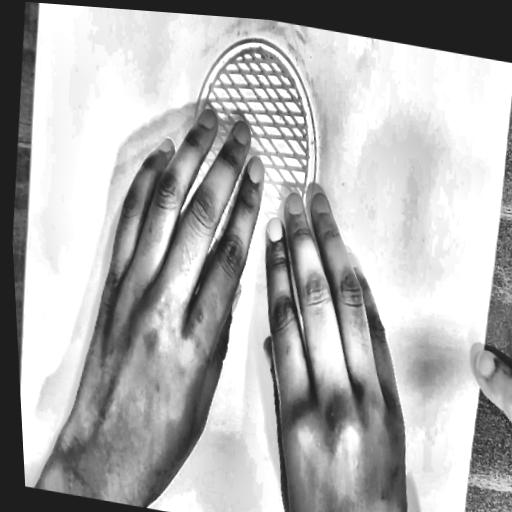badminton: (112, 12, 407, 512)
